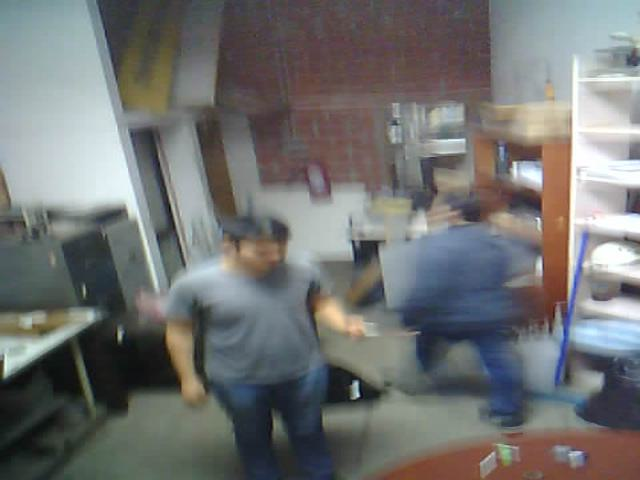person: (121, 175, 366, 480), (382, 143, 579, 445)
